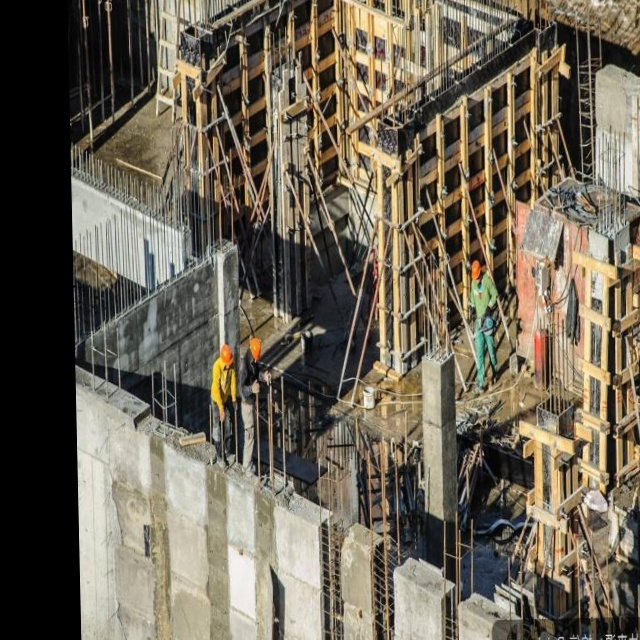Con_Casco: (249, 337, 262, 362), (221, 344, 234, 366), (471, 258, 481, 284)
